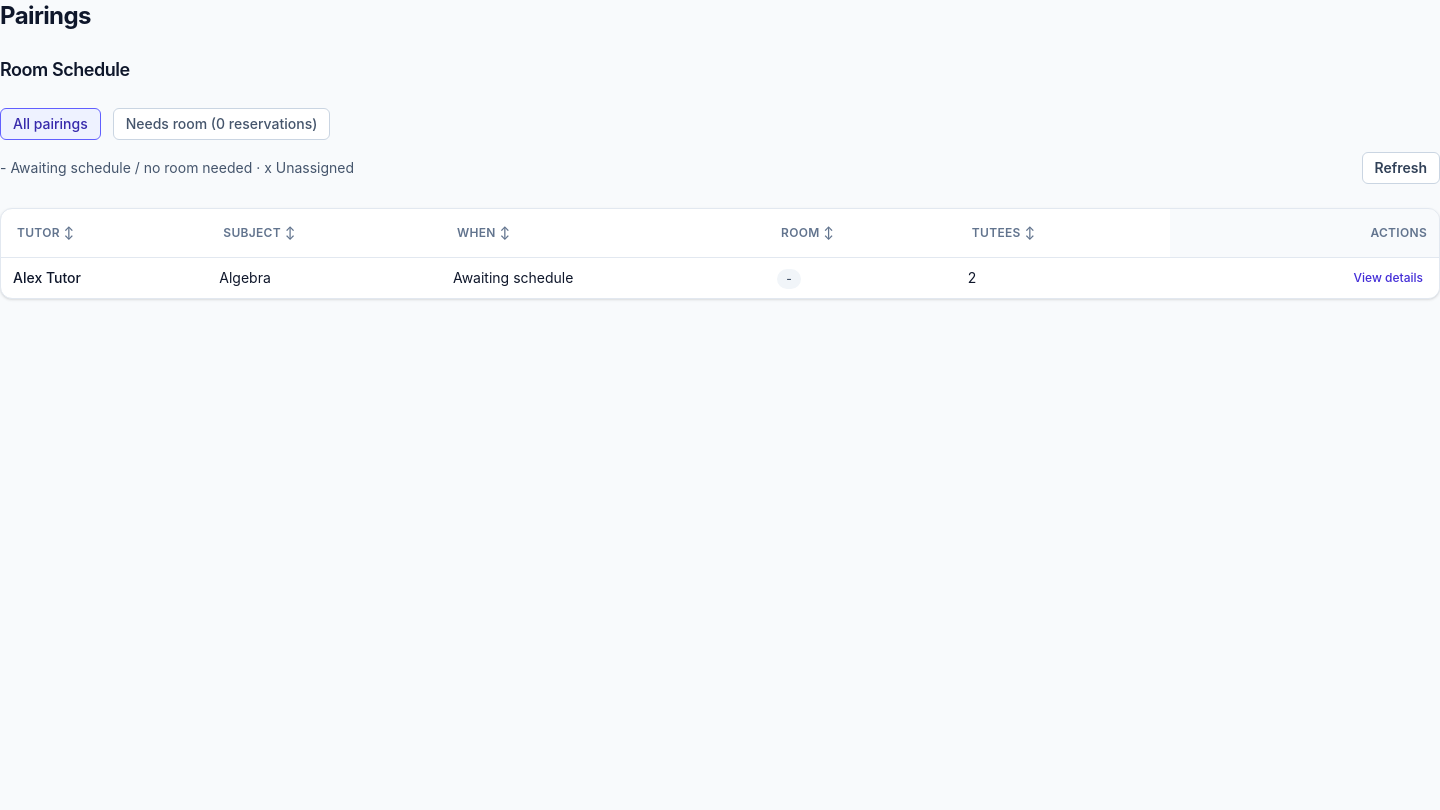
Test case: replaces pairing rosters with a count and opens the full list through the final column
Expected: the column heading "Actions" is shown, [1170, 209, 1439, 258]
Expected: the text "Jordan Student" is not shown
Click the button with aria-label "View details: Alex Tutor · Algebra" at [1388, 278], box [1350, 266, 1427, 290]
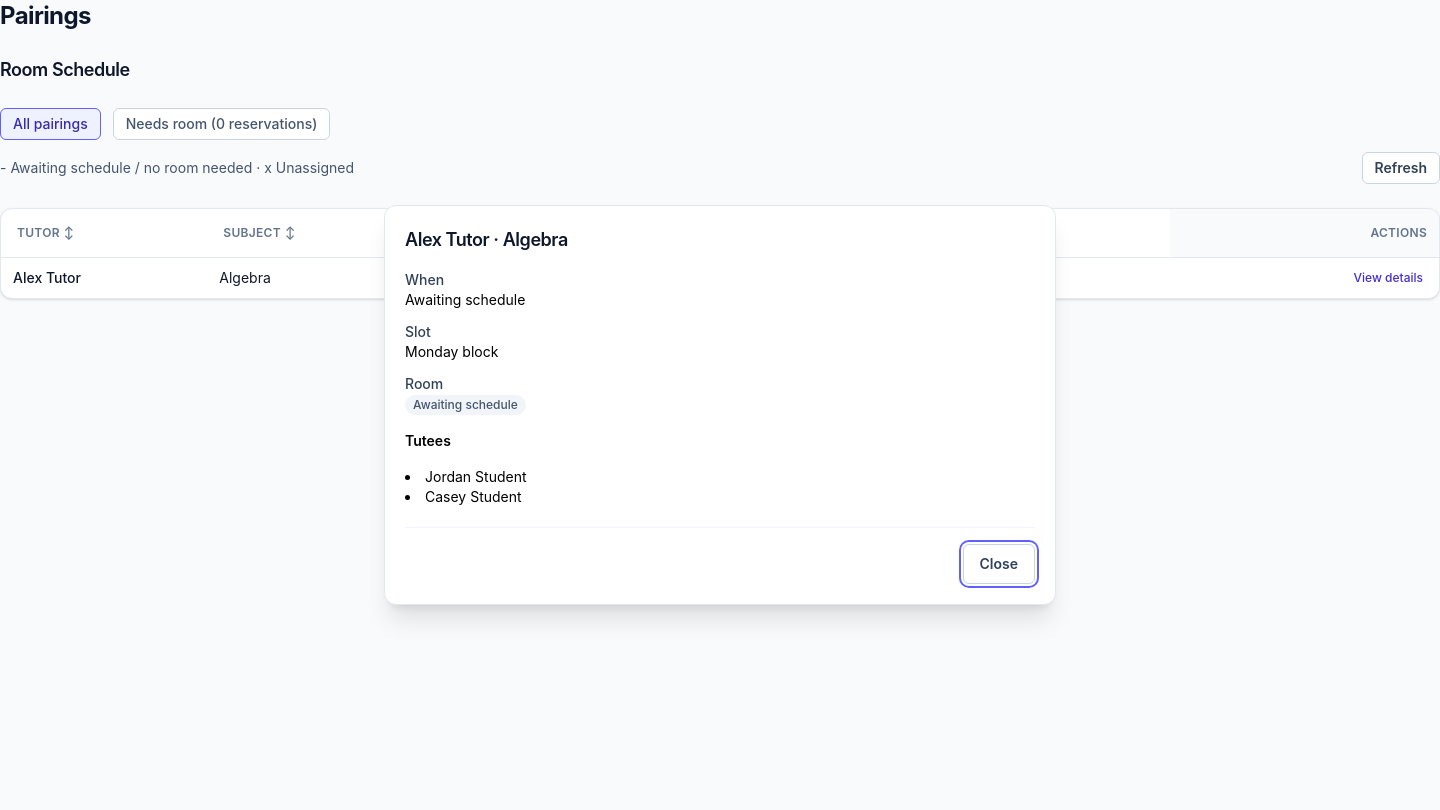
Expected: the list item "Jordan Student" is shown, [425, 468, 526, 485]
Expected: the list item "Casey Student" is shown, [425, 488, 522, 505]
